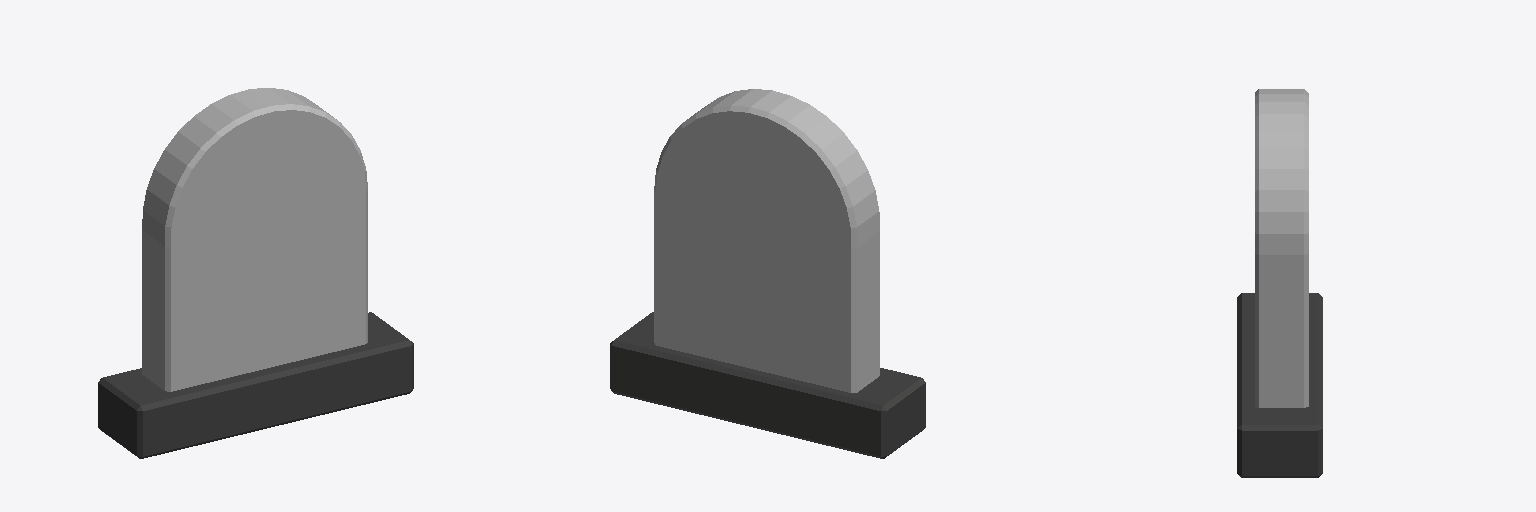
The model's file is Gravestone.obj.
The picture shows the model from 3 angles: view 1: azimuth 30°, elevation 25°; view 2: azimuth 150°, elevation 25°; view 3: azimuth 270°, elevation 25°; orthographic projection.
Parts seen in each view (by area): view 1: Cap_1, Cube, Extrude, Rounding_1; view 2: Cap_2, Cube, Extrude, Rounding_2; view 3: Extrude, Cube, Rounding_2, Rounding_1.
Boxes of the visible parts, <box> form: Cap_1: <box>171,110,365,391</box>; Cube: <box>98,312,413,458</box>; Extrude: <box>142,88,336,390</box>; Rounding_1: <box>165,104,367,391</box>; Cap_2: <box>656,111,850,392</box>; Cube: <box>610,312,925,458</box>; Extrude: <box>687,89,879,392</box>; Rounding_2: <box>654,105,856,392</box>; Extrude: <box>1259,89,1303,407</box>; Cube: <box>1237,293,1322,477</box>; Rounding_2: <box>1304,89,1308,407</box>; Rounding_1: <box>1255,89,1258,407</box>.
Bounding box in the file's own units: 209 × 226 × 55.96.